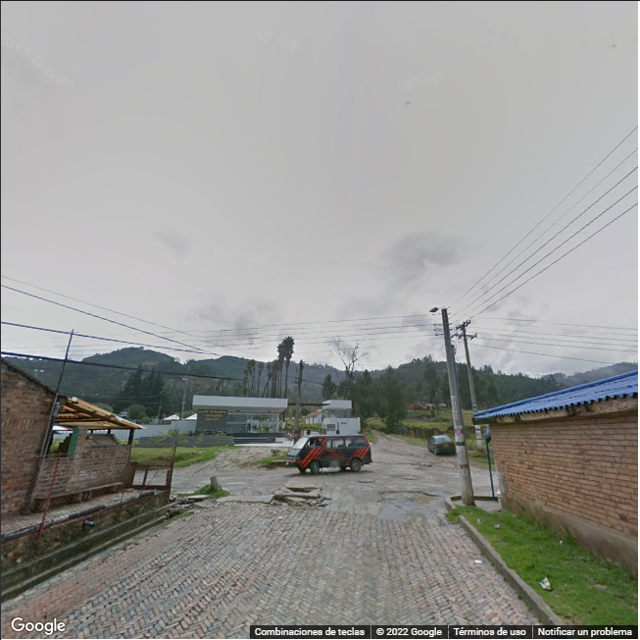D40: (366, 486, 437, 505)
